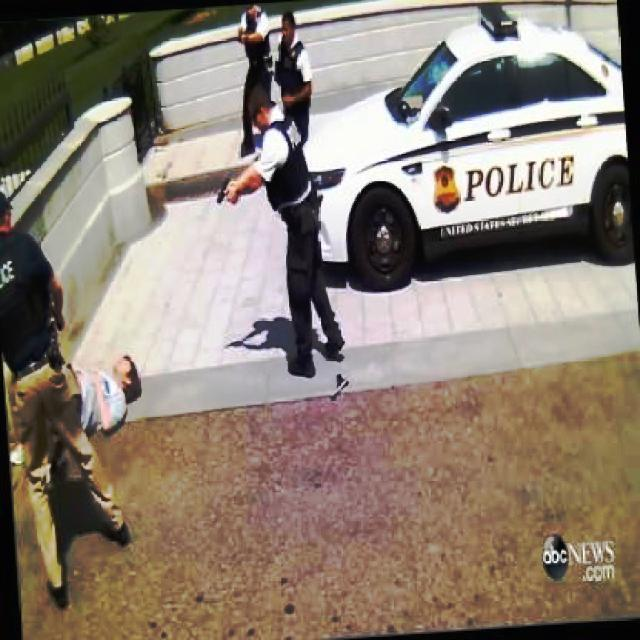Gun: (204, 164, 248, 219)
